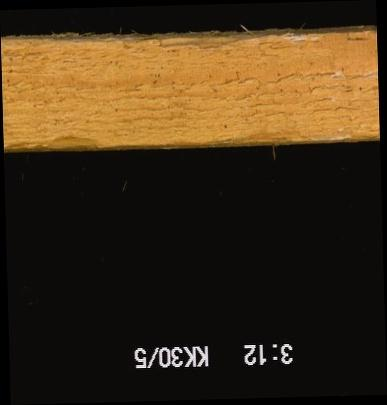wave: (101, 26, 283, 46), (161, 132, 332, 146), (3, 135, 105, 151)
